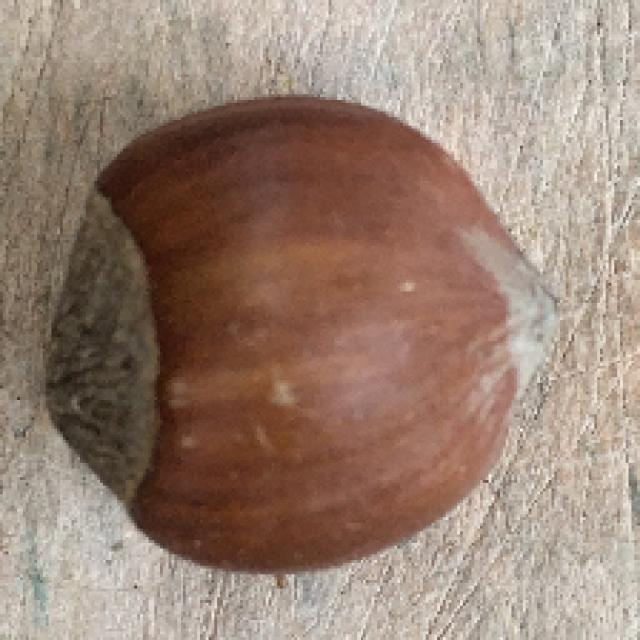qualityHazelnut: (44, 88, 568, 573)
